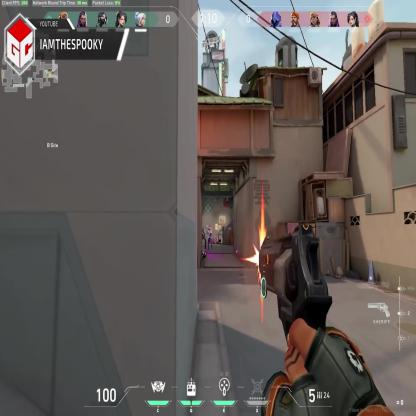enemy: (200, 225, 206, 251), (207, 224, 212, 251)
enemy_head: (202, 226, 204, 229), (209, 225, 210, 230)
